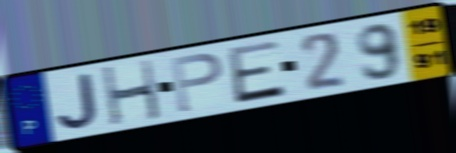2: (299, 30, 347, 93)
9: (355, 21, 404, 81)
E: (225, 37, 288, 106)
H: (99, 57, 164, 128)
J: (54, 70, 100, 131)
P: (169, 51, 225, 116)
